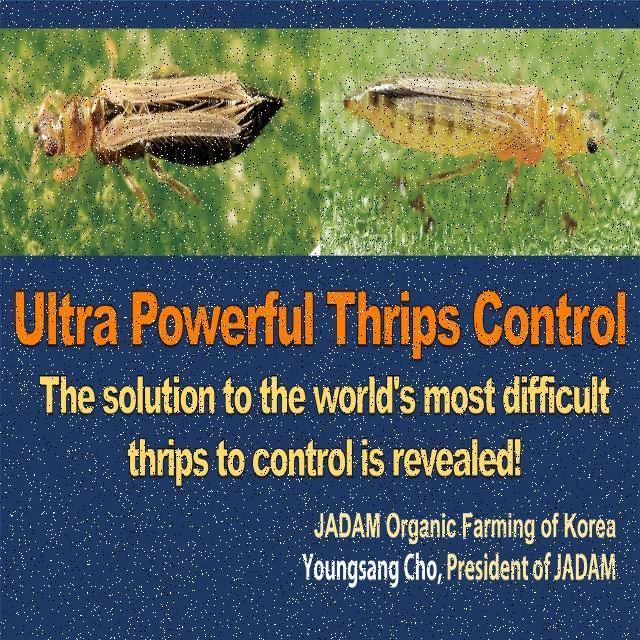Thrips: (16, 54, 307, 209), (326, 64, 624, 211)
